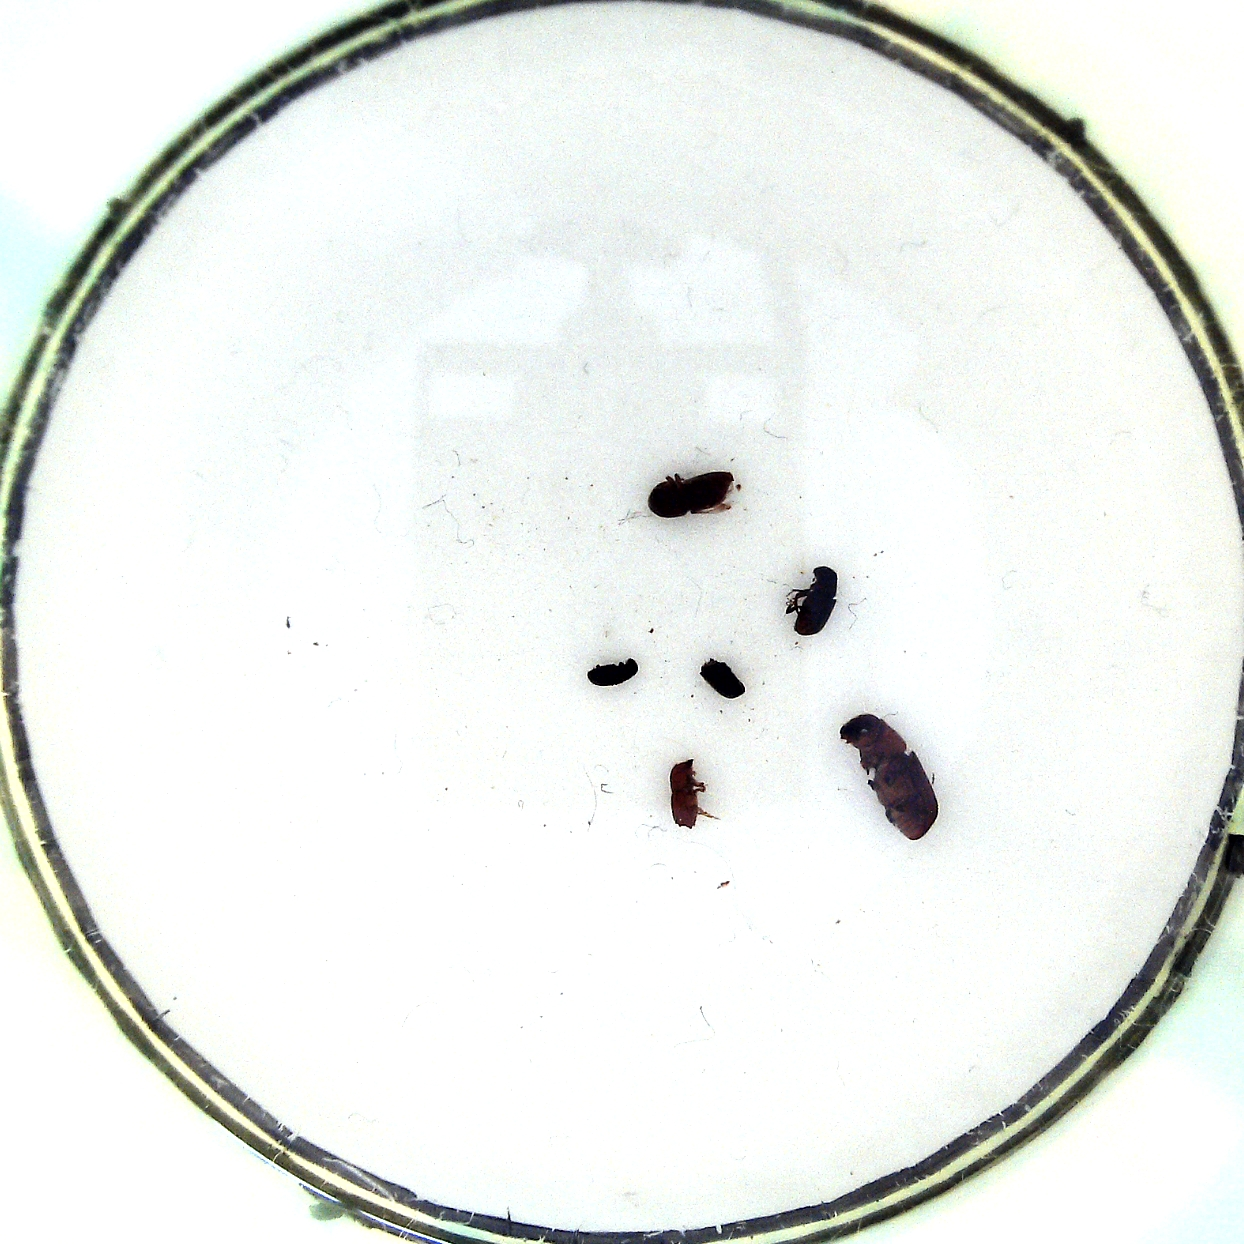Leconte: (840, 717, 944, 843)
Linnaeus: (644, 468, 739, 530)
acuminatus: (665, 755, 712, 832)
armandi: (783, 558, 844, 640)
coleoptera: (698, 647, 752, 701), (586, 652, 640, 696)
